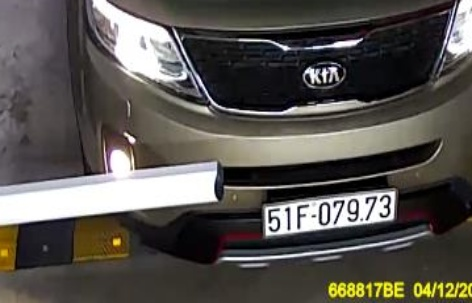plate: (260, 188, 397, 240)
